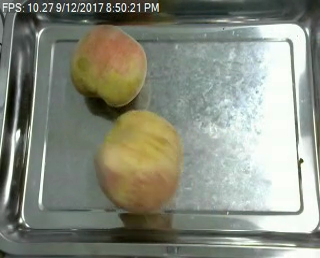Peach: (96, 108, 182, 213), (70, 23, 147, 106)
